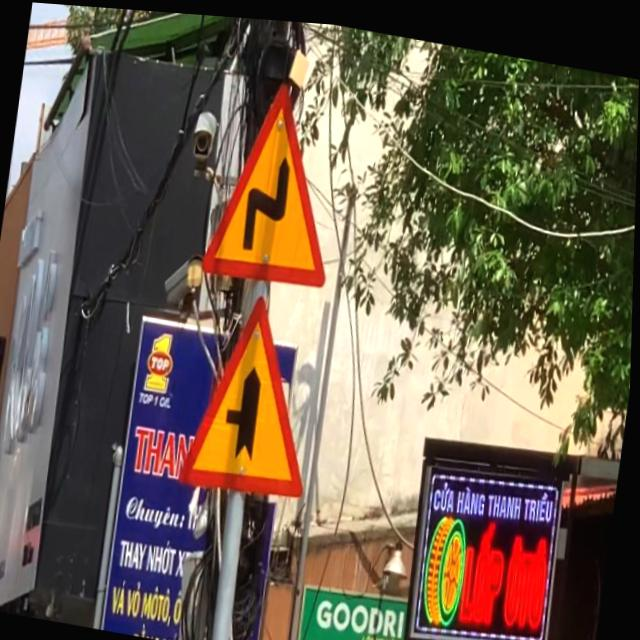Giao nhau voi duong khong uu tien ben trai: (171, 273, 333, 511)
Nhieu cho ngoat lien tiep ben phai: (195, 56, 358, 301)
